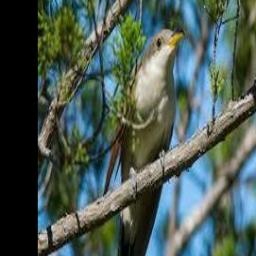Cuckoo: (102, 28, 185, 256)
